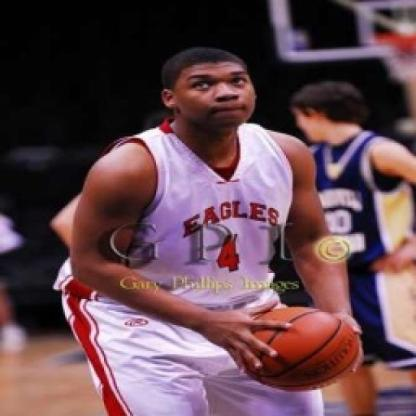basketball: (237, 304, 364, 392)
